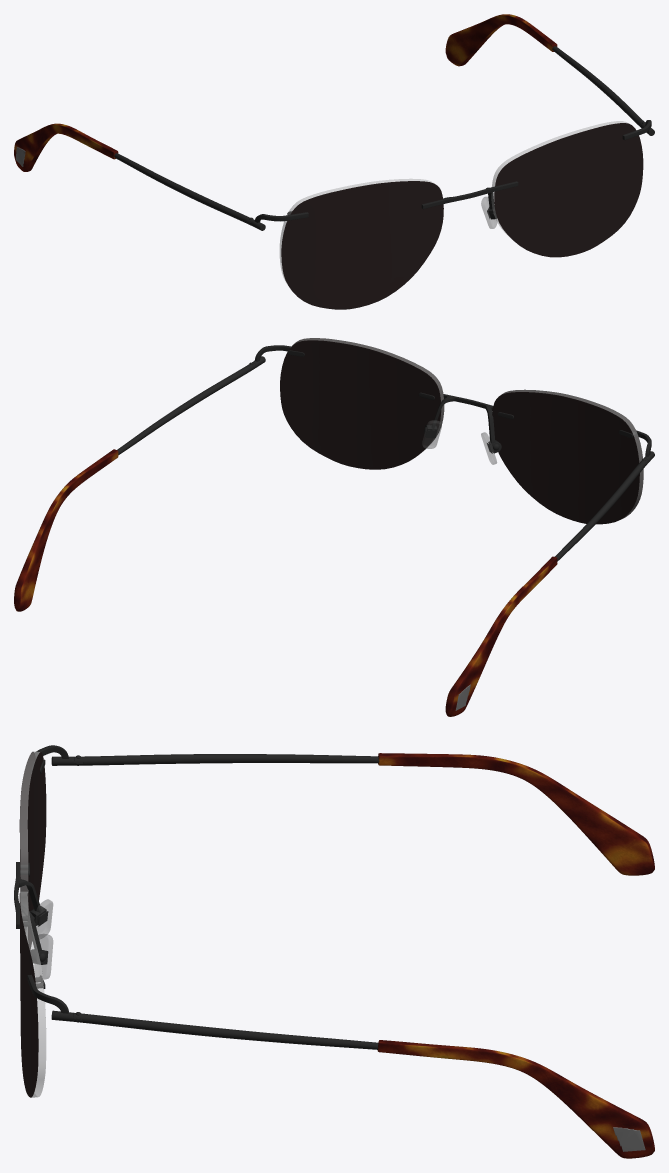
Rendered from glasses_6.glb.
The picture shows the model from 3 angles, top to bottom: view 1: azimuth 30°, elevation 25°; view 2: azimuth 150°, elevation 25°; view 3: azimuth 270°, elevation 25°; orthographic projection. The views are drawn at different scales.
Parts seen in each view (by area): view 1: Mesh__Glasses1_0, Mesh__T1_0, Mesh__Base1_0, Mesh__Glasses_Side1_0; view 2: Mesh__Glasses1_0, Mesh__T1_0, Mesh__Base1_0, Mesh__Glasses_Side1_0, Mesh__nose1_0; view 3: Mesh__T1_0, Mesh__Base1_0, Mesh__Glasses1_0, Mesh__Glasses_Side1_0, Mesh__nose1_0.
Boxes of the visible parts, x1=… form: Mesh__Glasses1_0: x1=281, y1=123, x2=643, y2=309; Mesh__T1_0: x1=14, y1=14, x2=557, y2=171; Mesh__Base1_0: x1=114, y1=46, x2=654, y2=230; Mesh__Glasses_Side1_0: x1=279, y1=121, x2=628, y2=289; Mesh__Glasses1_0: x1=280, y1=338, x2=643, y2=524; Mesh__T1_0: x1=14, y1=449, x2=557, y2=716; Mesh__Base1_0: x1=117, y1=345, x2=654, y2=561; Mesh__Glasses_Side1_0: x1=290, y1=338, x2=643, y2=518; Mesh__nose1_0: x1=422, y1=420, x2=496, y2=464; Mesh__T1_0: x1=377, y1=753, x2=654, y2=1158; Mesh__Base1_0: x1=14, y1=745, x2=379, y2=1049; Mesh__Glasses1_0: x1=19, y1=752, x2=46, y2=1097; Mesh__Glasses_Side1_0: x1=20, y1=751, x2=46, y2=1097; Mesh__nose1_0: x1=34, y1=899, x2=53, y2=979.
Size of the model in its own units: 1.56 by 0.4065 by 1.43.
Materials: 6 (1 with a texture image).
